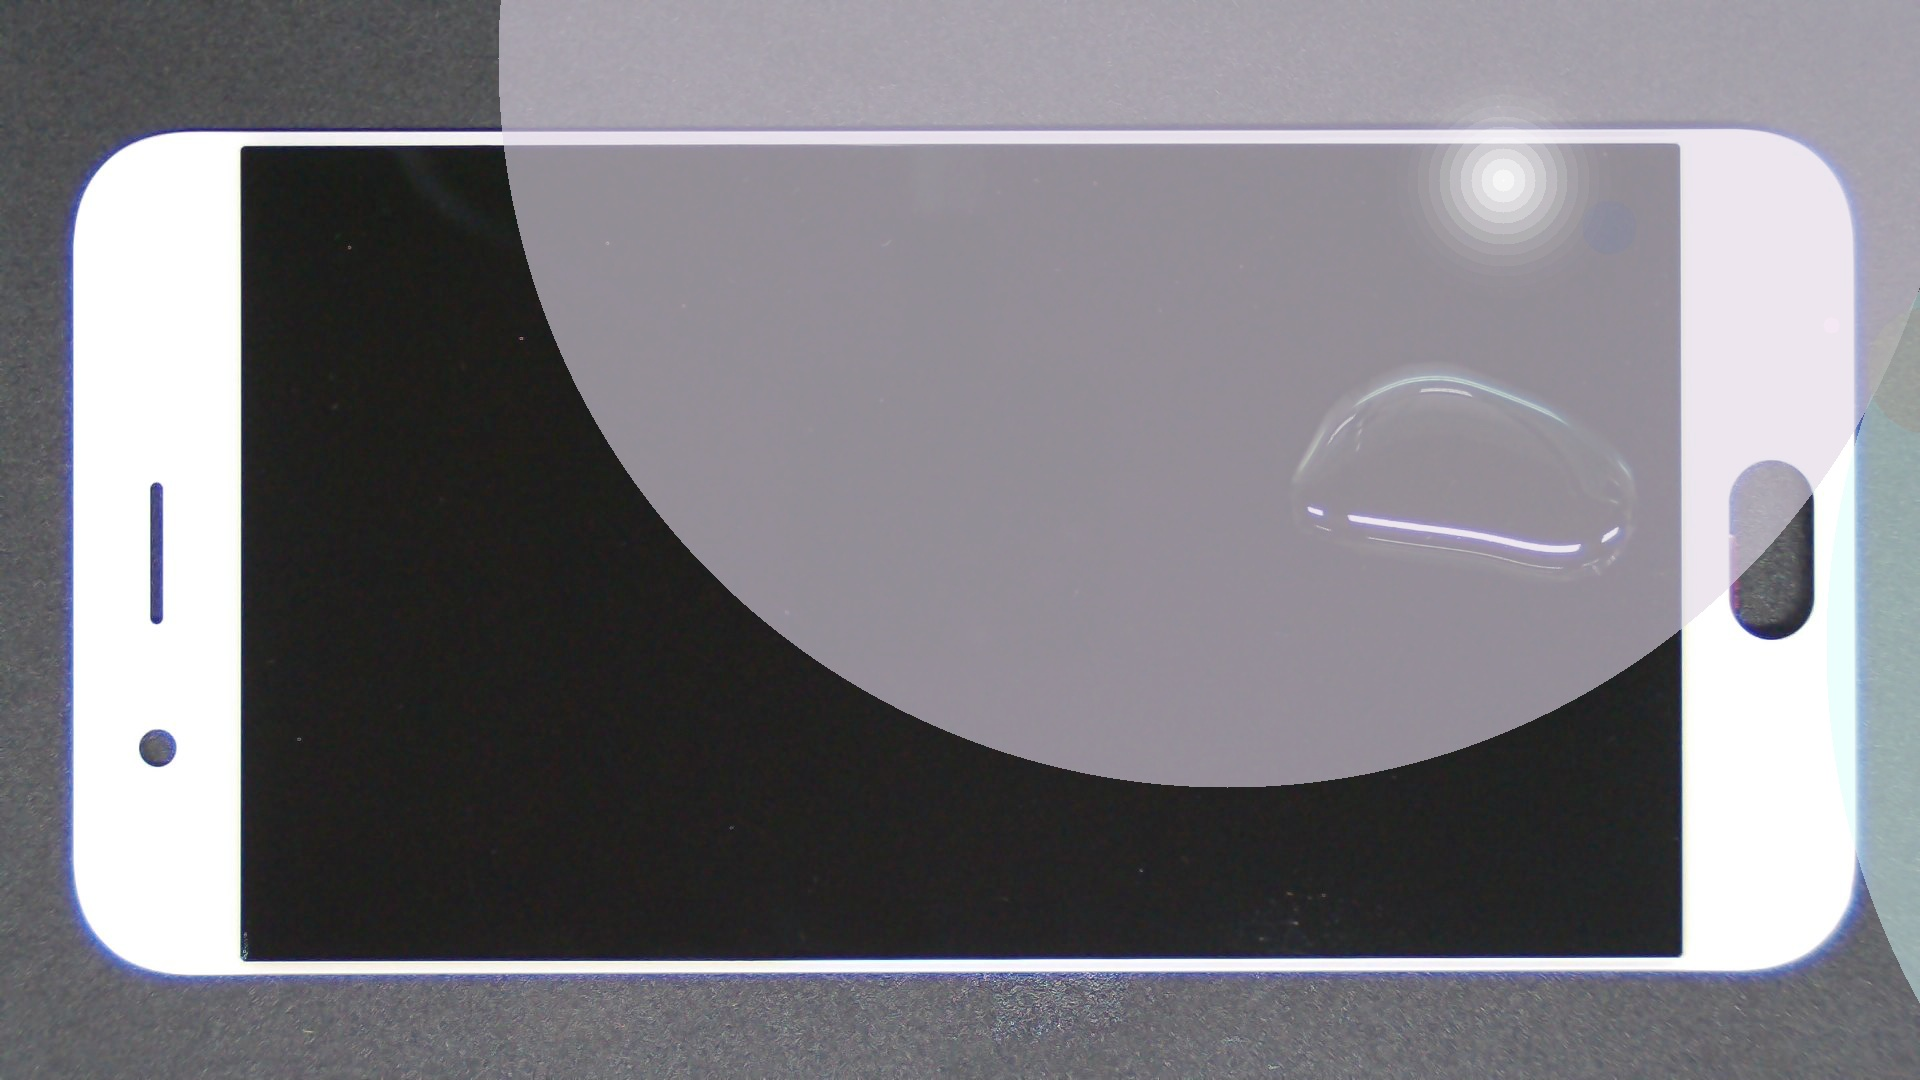oil: (715, 179, 1920, 541)
